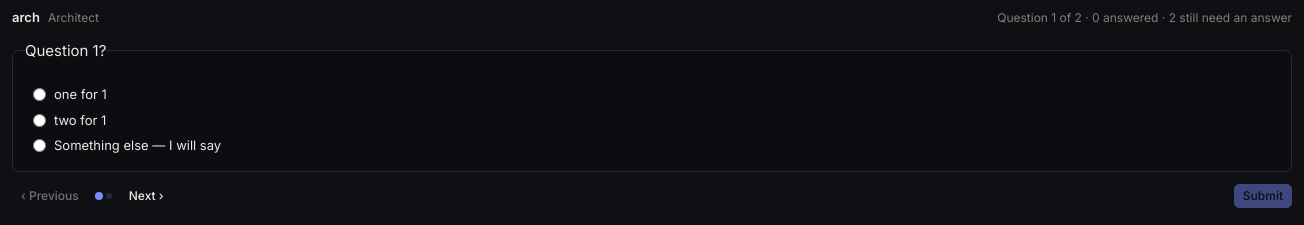
Scenario: the discussion question block › DQA-FR-BXHU, DQA-FR-TFCE: pages both ways and disables at the two ends
The image size is (1304, 225).
Click the button with test id "discussion-questions-next". click: (146, 196)
box: [120, 184, 173, 208]
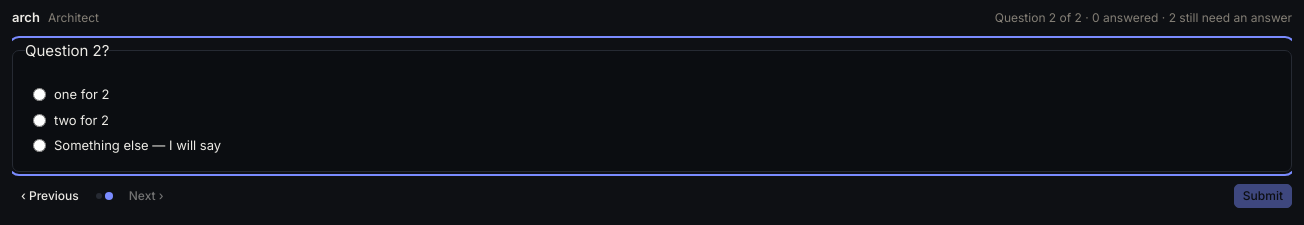
Expected: the text "Question 2?" is shown, [25, 40, 109, 62]
Expected: the button with test id "discussion-questions-next" is disabled, [120, 184, 173, 208]
Expected: the button with test id "discussion-questions-previous" is enabled
Click the button with test id "discussion-questions-previous". click: (50, 196)
box: [12, 184, 88, 208]
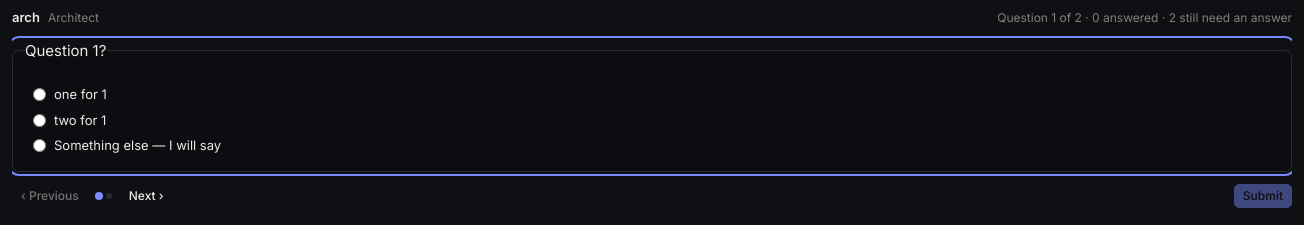
Expected: the text "Question 1?" is shown, [25, 40, 106, 62]
Expected: the button with test id "discussion-questions-previous" is disabled, [12, 184, 88, 208]
